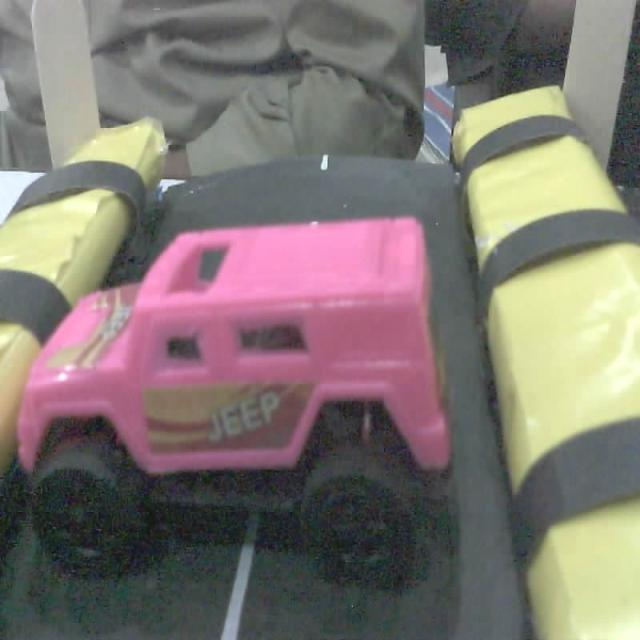OneCar: (22, 211, 466, 592)
